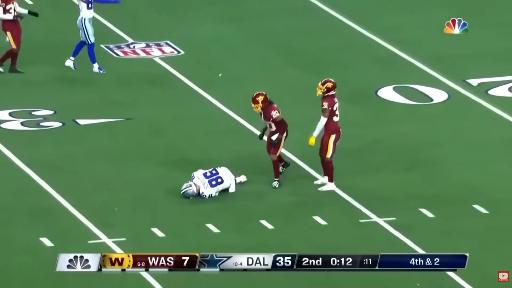Helmet: (252, 92, 269, 112), (317, 79, 336, 95), (181, 182, 197, 198)
Jersey: (192, 167, 235, 198), (261, 104, 287, 136), (322, 95, 340, 134), (0, 0, 26, 22), (78, 0, 93, 18)
Player: (65, 0, 120, 73), (252, 92, 290, 188), (309, 79, 341, 190), (0, 0, 38, 73), (181, 167, 246, 198)
